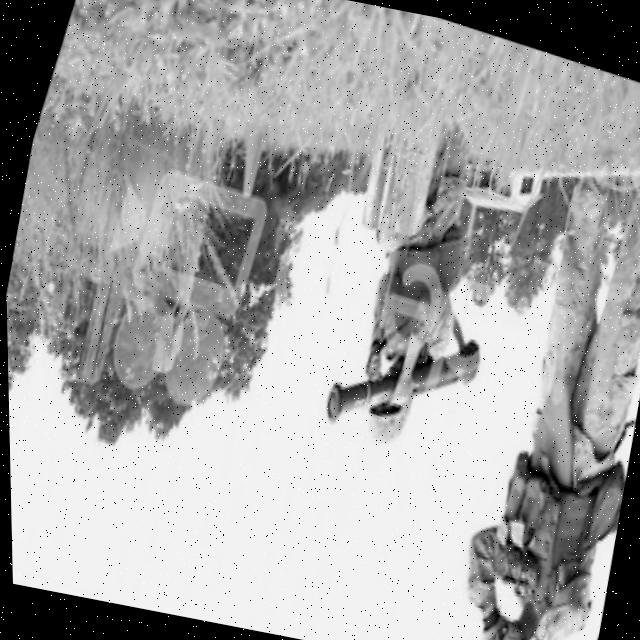rocket: (312, 296, 492, 466)
